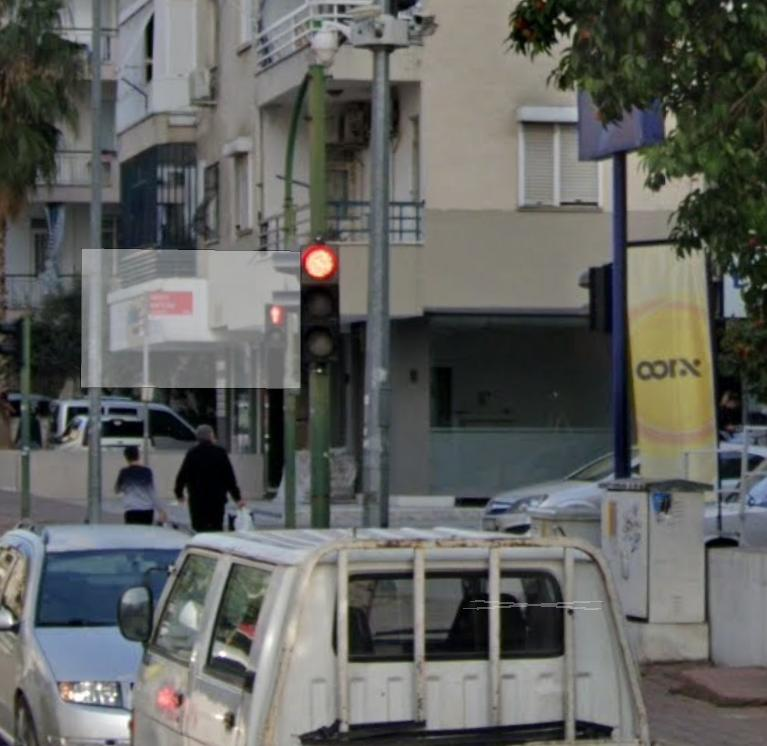redlight: (304, 245, 341, 366)
